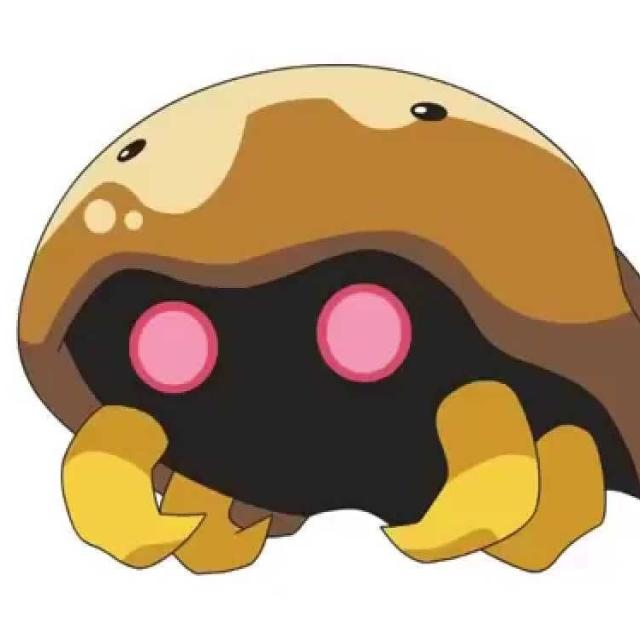Kabuto: (17, 64, 640, 582)
